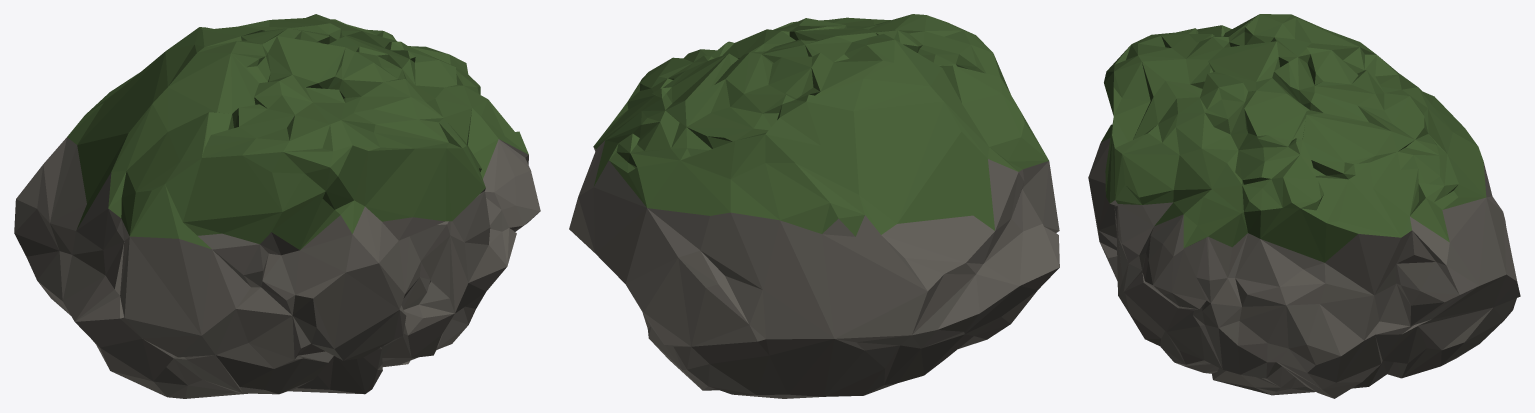
The model's file is rock-1.glb.
3 views of the same model, side by side, from view 1: azimuth 30°, elevation 25°; view 2: azimuth 150°, elevation 25°; view 3: azimuth 270°, elevation 25° (orthographic). The views are drawn at different scales.
Visible parts, largest first — view 1: output_unwrapped; view 2: output_unwrapped; view 3: output_unwrapped.
Part boxes in pixels (x1,y1,x2,y2): output_unwrapped: (14, 14, 540, 398); output_unwrapped: (569, 14, 1059, 398); output_unwrapped: (1088, 14, 1520, 398).
Size of the model in its own units: 2 by 1.44 by 1.88.
